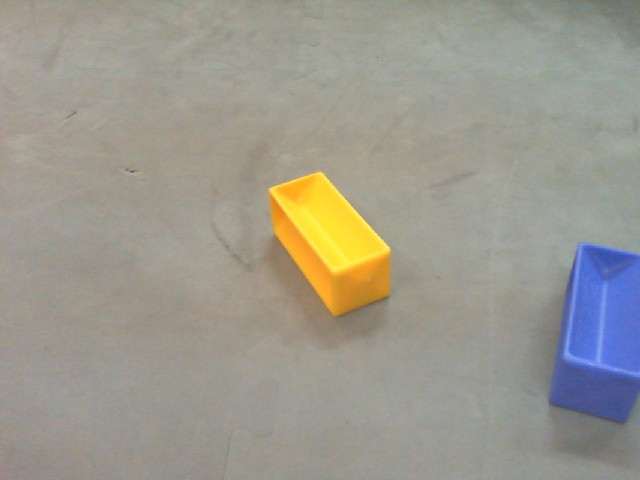BlueSample: (544, 238, 640, 424)
YellowSample: (263, 171, 395, 319)
